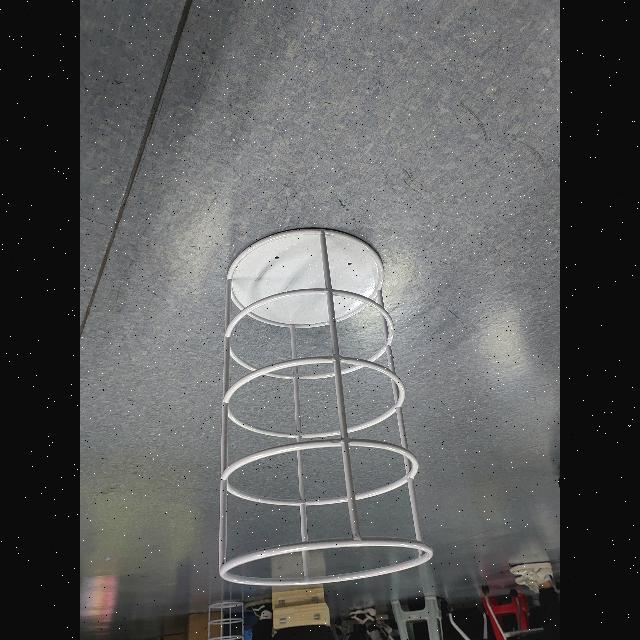S: (215, 220, 440, 590)
